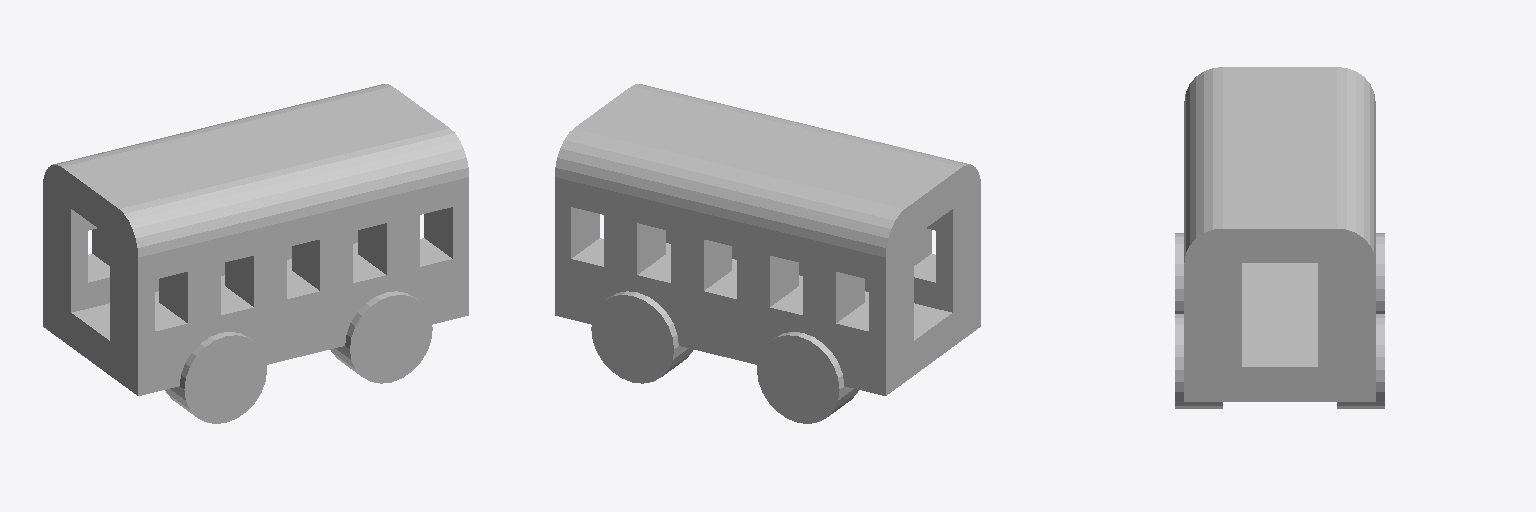
The model's file is train v3.obj.
3 views of the same model, side by side, from view 1: azimuth 30°, elevation 25°; view 2: azimuth 150°, elevation 25°; view 3: azimuth 270°, elevation 25° (orthographic).
Visible parts, largest first — view 1: Body1; view 2: Body1; view 3: Body1.
Part boxes in pixels (left/top/right/bottom): Body1: left=43, top=84, right=468, bottom=423; Body1: left=555, top=84, right=980, bottom=423; Body1: left=1175, top=67, right=1384, bottom=408.
Bounding box in the file's own units: 20 × 12.5 × 11.